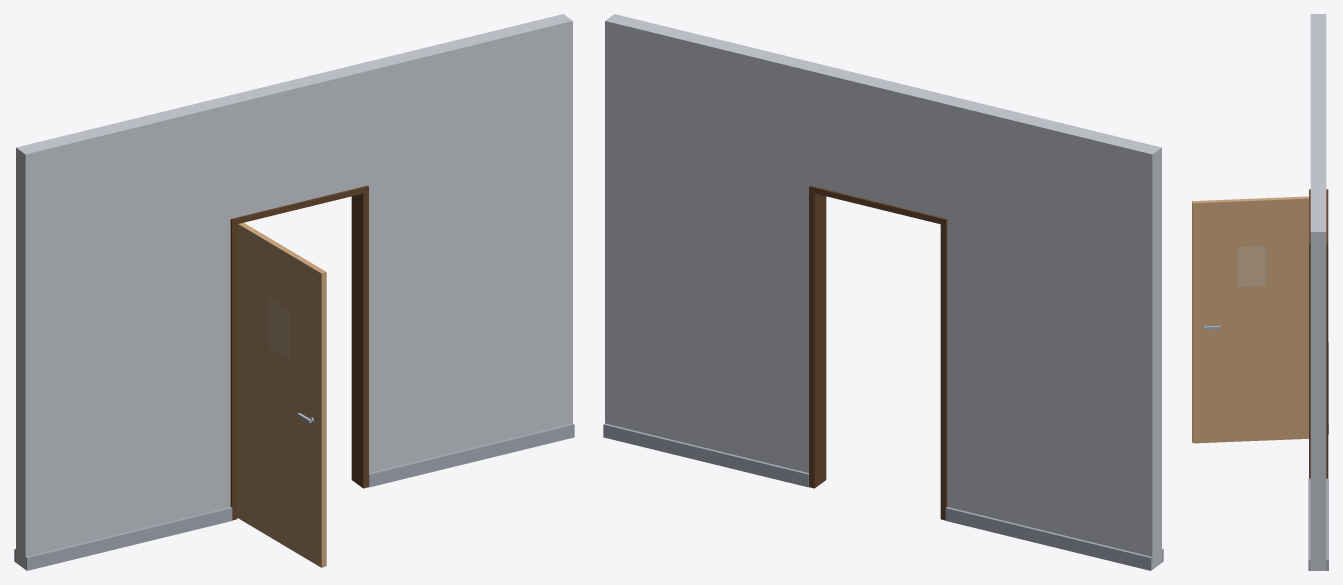
Rendered from str-008.glb.
3 renders of one model, left to right at view 1: azimuth 30°, elevation 25°; view 2: azimuth 150°, elevation 25°; view 3: azimuth 270°, elevation 25°, orthographic. The views are drawn at different scales.
Visible parts, largest first — view 1: wall, beech, walnut, skirting, glass_clear; view 2: wall, walnut, skirting; view 3: beech, wall, walnut, glass_clear, skirting.
Part boxes in pixels (x1,y1,x2,y2): wall: (16,14,572,569); beech: (237,222,326,567); walnut: (230,185,368,520); skirting: (14,423,574,570); glass_clear: (269,299,288,357); wall: (605,14,1161,569); walnut: (809,185,947,520); skirting: (603,423,1163,570); beech: (1192,196,1308,443); wall: (1310,14,1326,570); walnut: (1309,189,1328,478); glass_clear: (1238,246,1264,286); skirting: (1308,342,1328,570).
Size of the model in its own units: 4 by 2.9 by 1.06.
